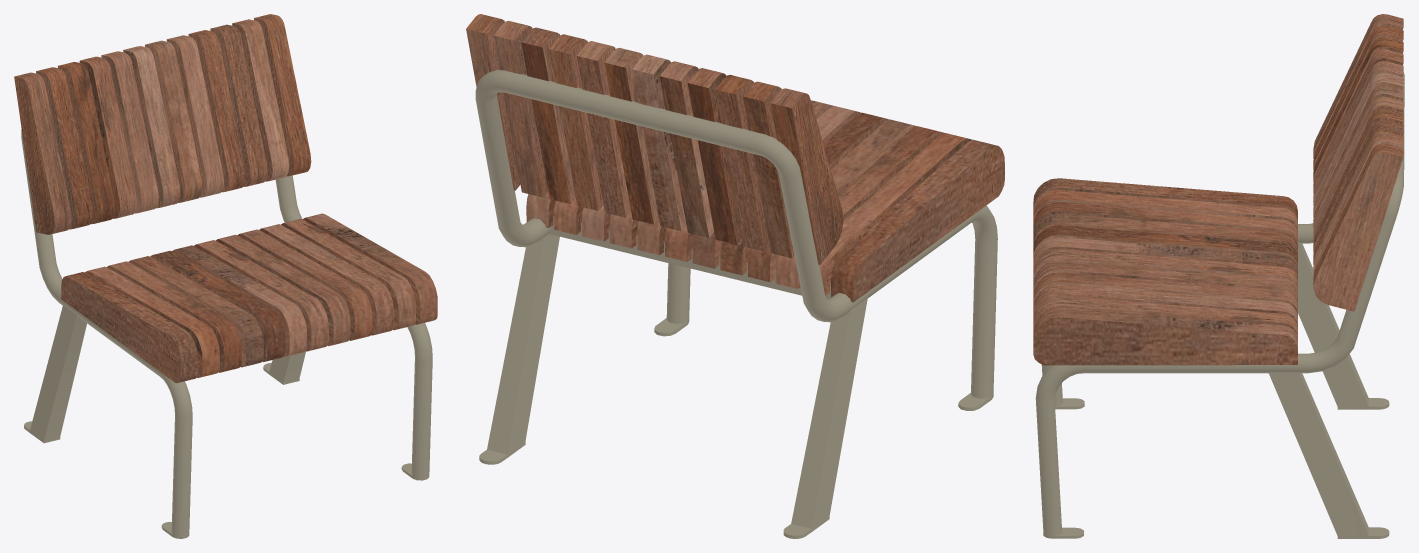
File: modelstul.glb
The picture shows the model from 3 angles, left to right: view 1: azimuth 30°, elevation 25°; view 2: azimuth 150°, elevation 25°; view 3: azimuth 270°, elevation 25°; orthographic projection. The views are drawn at different scales.
Parts seen in each view (by area): view 1: СкД_02_HP; view 2: СкД_02_HP; view 3: СкД_02_HP.
Boxes of the visible parts, x1,y1,x2,y2 form: СкД_02_HP: (14,14,437,538); СкД_02_HP: (466,14,1004,538); СкД_02_HP: (1033,14,1404,538).
Size of the model in its own units: 0.6326 by 0.8212 by 0.7145.
Materials: 3 (3 with a texture image).
